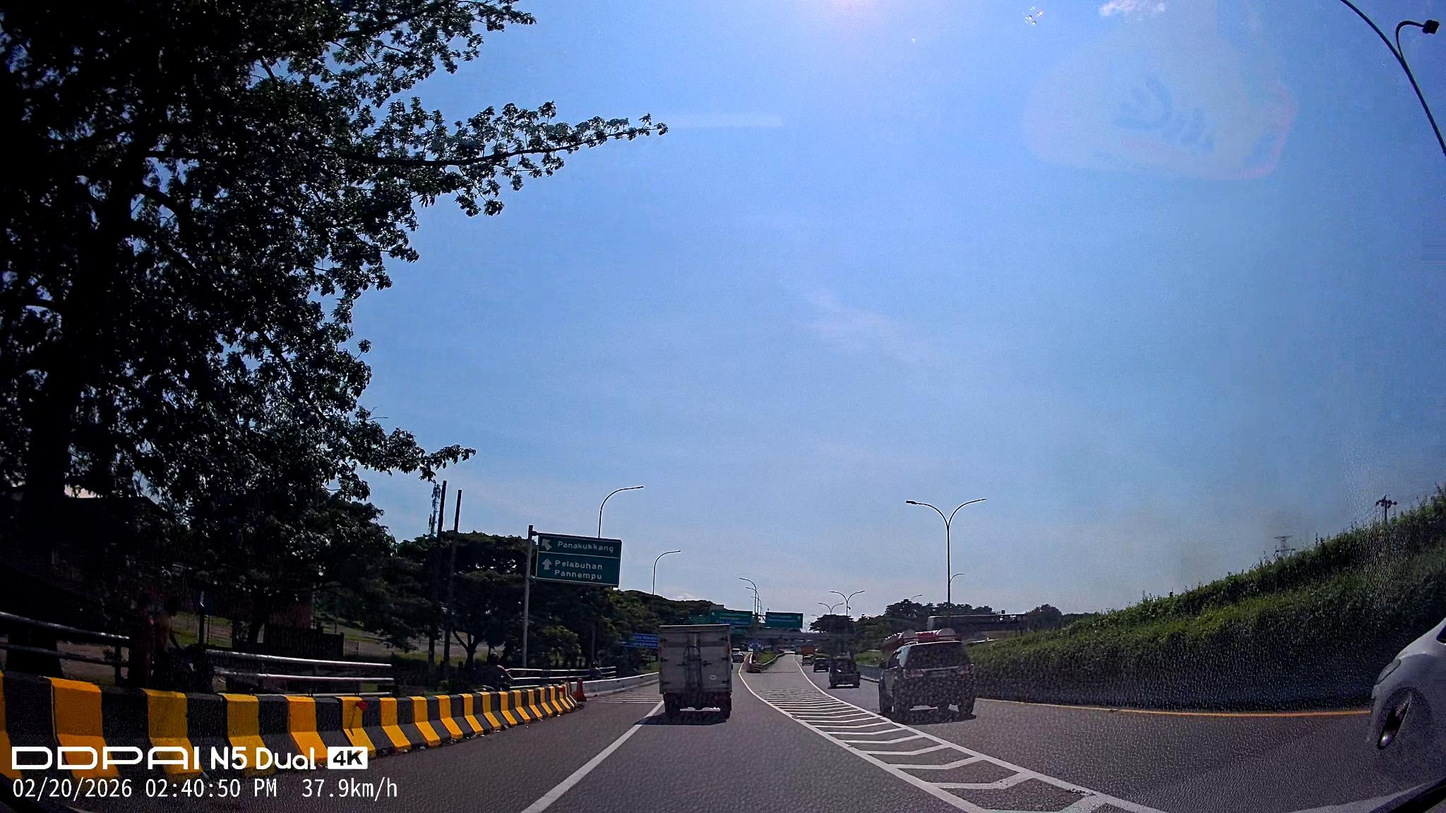rambu_teks: (537, 534, 621, 586)
